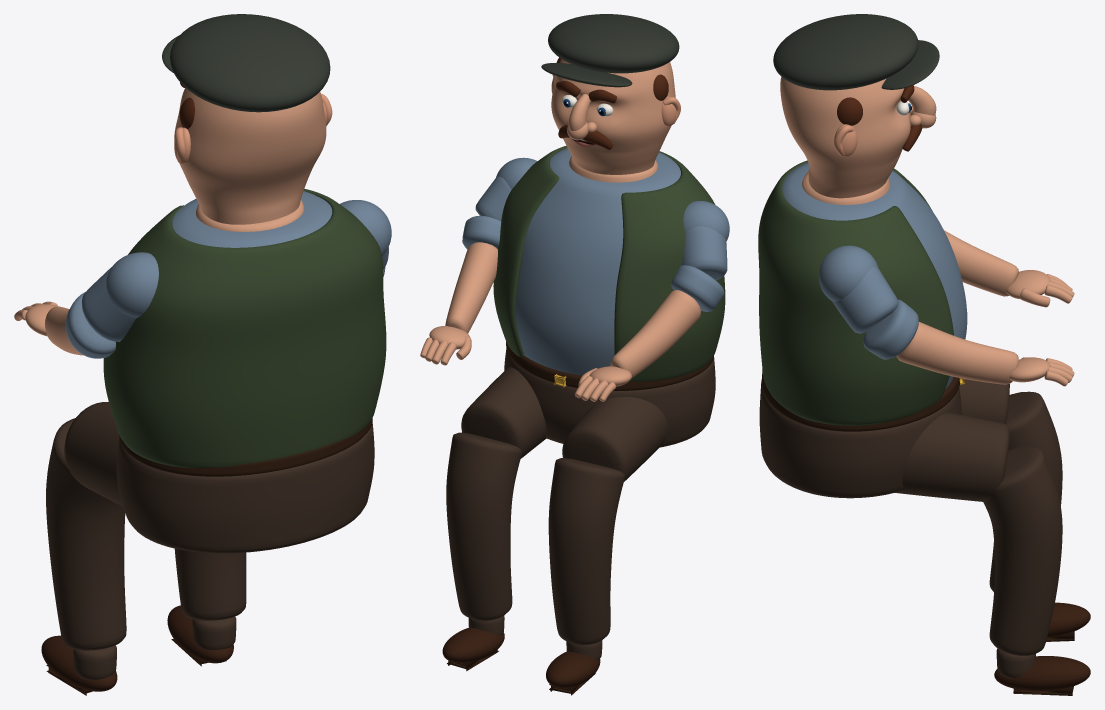
File: temel.glb
3 renders of one model, left to right at view 1: azimuth 30°, elevation 25°; view 2: azimuth 150°, elevation 25°; view 3: azimuth 270°, elevation 25°, orthographic. The views are drawn at different scales.
Visible parts, largest first — view 1: Waistcoat, PelvisPants.002, FaceSkull.002, CalfL.002, CapCrown, CalfR.002, ThighL.002, ShirtBody.001, ShoulderCapL.002, LeatherBelt.001, RolledSleeveL.001, ShoeUpperL.001 (+7 smaller); view 2: ShirtBody.001, Waistcoat, CalfR.002, CalfL.002, FaceSkull.002, PelvisPants.002, CapCrown, ThighL.002, ThighR.002, ForearmL.002, ForearmR.002, RolledSleeveL.001 (+13 smaller); view 3: Waistcoat, CalfR.002, PelvisPants.002, FaceSkull.002, CapCrown, ThighR.002, ShirtBody.001, ForearmR.002, CalfL.002, RolledSleeveR.001, ForearmL.002, ShoeUpperR.001 (+12 smaller).
Boxes of the visible parts, x1,y1,x2,y2 form: Waistcoat: [103, 189, 386, 467]; PelvisPants.002: [116, 422, 374, 553]; FaceSkull.002: [174, 88, 326, 224]; CalfL.002: [46, 418, 126, 650]; CapCrown: [170, 14, 330, 112]; CalfR.002: [174, 548, 246, 620]; ThighL.002: [64, 402, 123, 506]; ShirtBody.001: [172, 191, 332, 247]; ShoulderCapL.002: [106, 252, 158, 317]; LeatherBelt.001: [119, 418, 372, 476]; RolledSleeveL.001: [82, 267, 136, 341]; ShoeUpperL.001: [41, 635, 117, 691]; ShirtBody.001: [515, 148, 680, 375]; Waistcoat: [493, 145, 725, 382]; CalfR.002: [446, 432, 521, 620]; CalfL.002: [548, 458, 624, 645]; FaceSkull.002: [551, 59, 675, 174]; PelvisPants.002: [504, 348, 715, 447]; CapCrown: [548, 14, 679, 73]; ThighL.002: [562, 396, 668, 481]; ThighR.002: [461, 367, 546, 458]; ForearmL.002: [610, 290, 700, 378]; ForearmR.002: [445, 242, 497, 333]; RolledSleeveL.001: [682, 226, 727, 280]; Waistcoat: [758, 160, 953, 425]; CalfR.002: [983, 446, 1062, 655]; PelvisPants.002: [759, 381, 961, 498]; FaceSkull.002: [780, 77, 910, 198]; CapCrown: [773, 14, 918, 90]; ThighR.002: [895, 412, 1009, 501]; ShirtBody.001: [782, 163, 967, 389]; ForearmR.002: [896, 322, 1018, 384]; CalfL.002: [989, 391, 1062, 591]; RolledSleeveR.001: [832, 266, 898, 333]; ForearmL.002: [944, 230, 1018, 296]; ShoeUpperR.001: [994, 656, 1090, 691].
Bounding box in the file's own units: 0.6366 × 1.39 × 0.6596.
